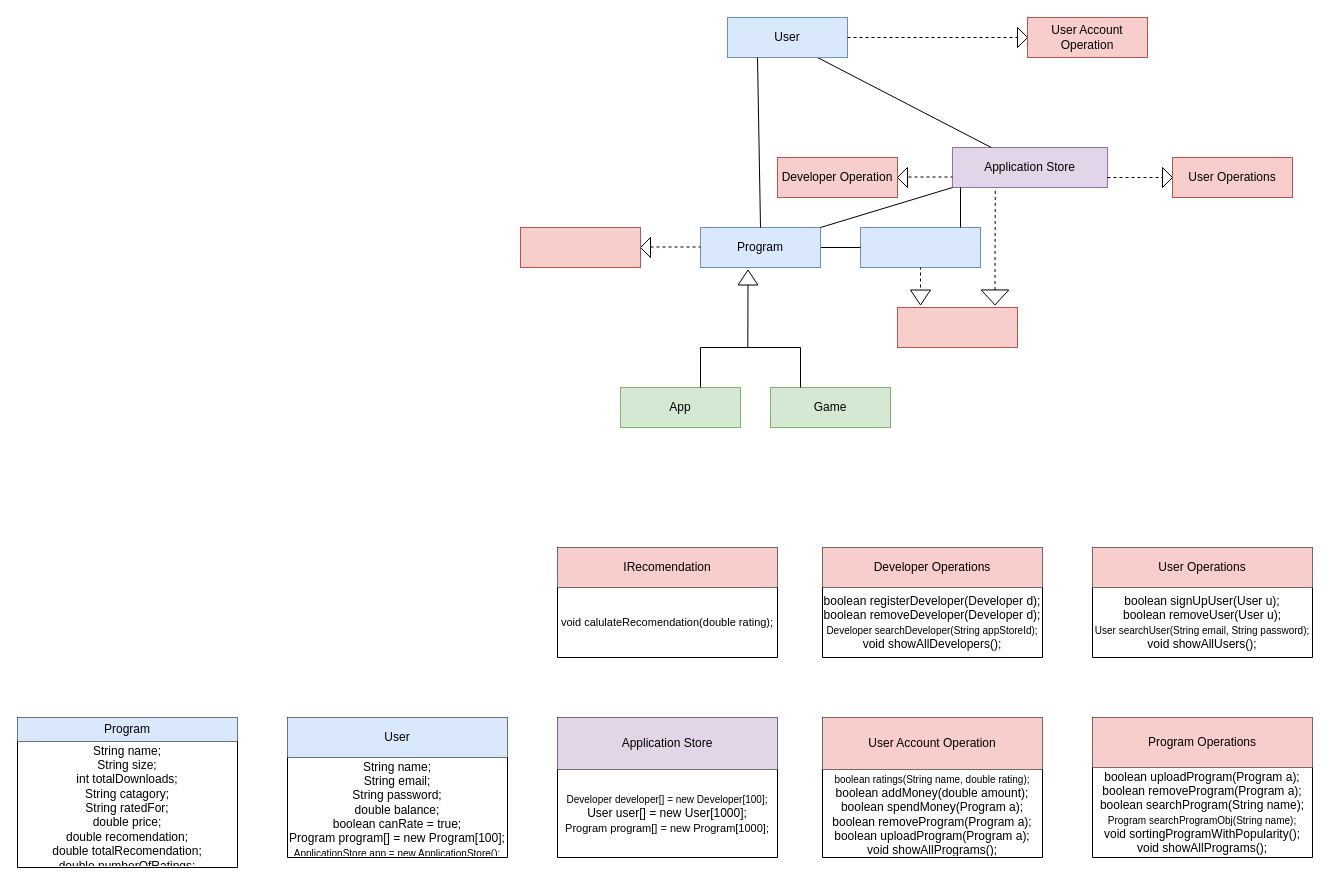
Image size: 1330x889. Some labels were removed from this diagram. Each missing label, with the centre of its shape:
Developer: point 920,247
IRecommendation: point 580,247
Program Operation: point 957,327
